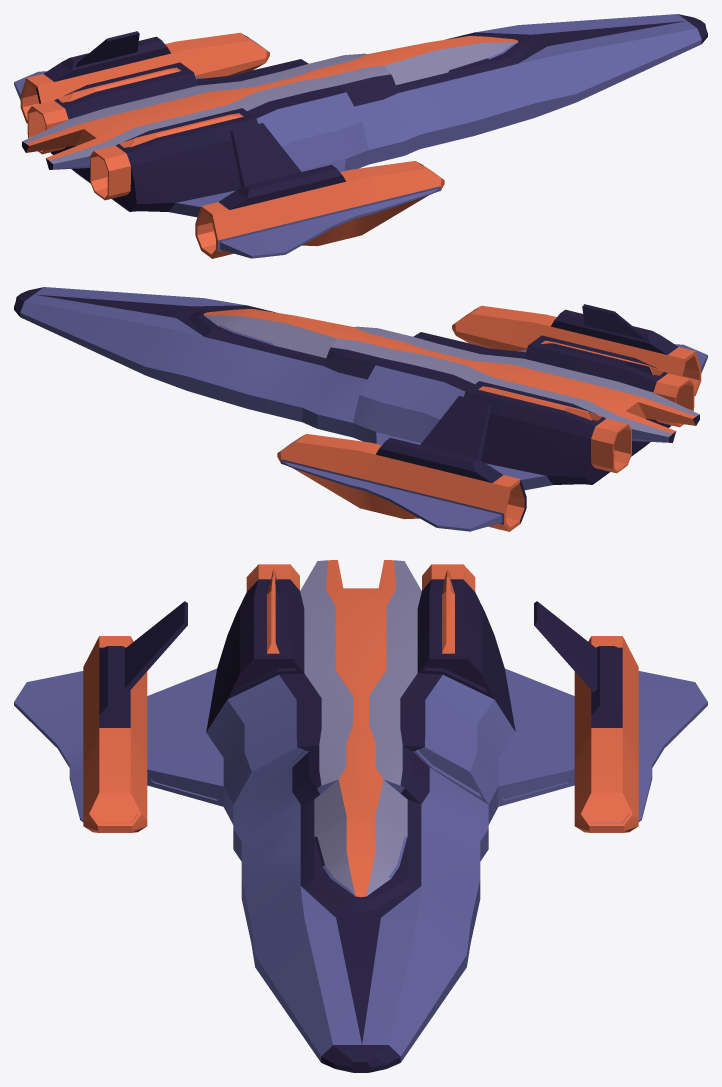
Rendered from spaceship_7.fbx.
The picture shows the model from 3 angles, top to bottom: view 1: azimuth 30°, elevation 25°; view 2: azimuth 150°, elevation 25°; view 3: azimuth 270°, elevation 25°; orthographic projection. The views are drawn at different scales.
Parts seen in each view (by area): view 1: Cube.008; view 2: Cube.008; view 3: Cube.008.
Part boxes in pixels (x1,y1,x2,y2): Cube.008: (14,14,707,258); Cube.008: (14,287,707,531); Cube.008: (14,560,707,1072).
Size of the model in its own units: 2107 by 324 by 1354.
